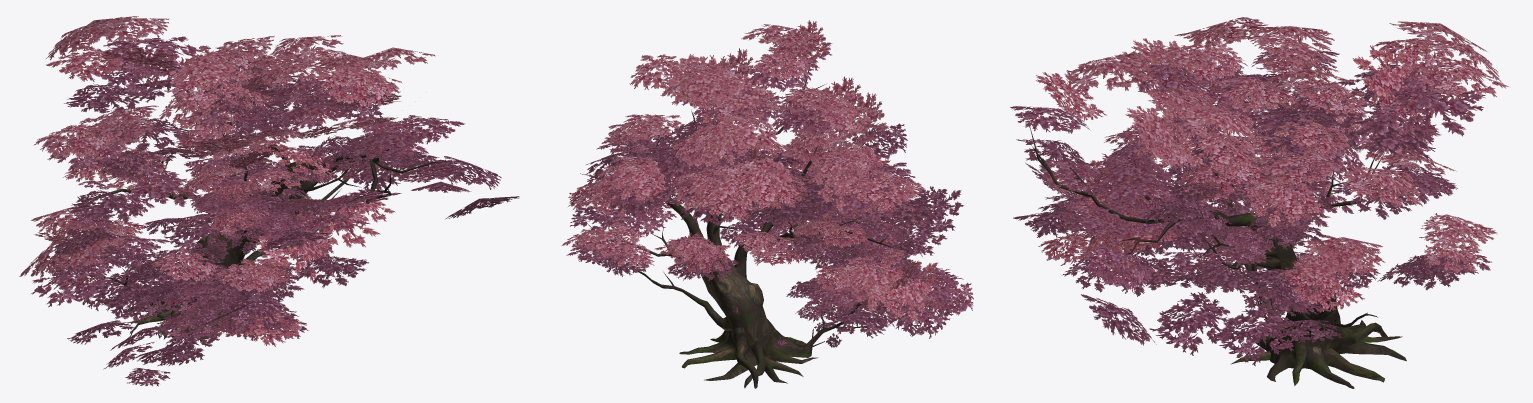
Rendered from 4006_Item_taoshu_1.FBX.
The picture shows the model from 3 angles, left to right: view 1: azimuth 30°, elevation 25°; view 2: azimuth 150°, elevation 25°; view 3: azimuth 270°, elevation 25°; orthographic projection. The views are drawn at different scales.
Parts seen in each view (by area): view 1: 4006_Item_taoshu_1; view 2: 4006_Item_taoshu_1; view 3: 4006_Item_taoshu_1.
Part boxes in pixels (x1,y1,x2,y2): 4006_Item_taoshu_1: (19,16,519,386); 4006_Item_taoshu_1: (561,20,973,388); 4006_Item_taoshu_1: (1010,17,1508,388).
Bounding box in the file's own units: 83827 × 74231 × 52431.
Materials: 1 (1 with a texture image).
